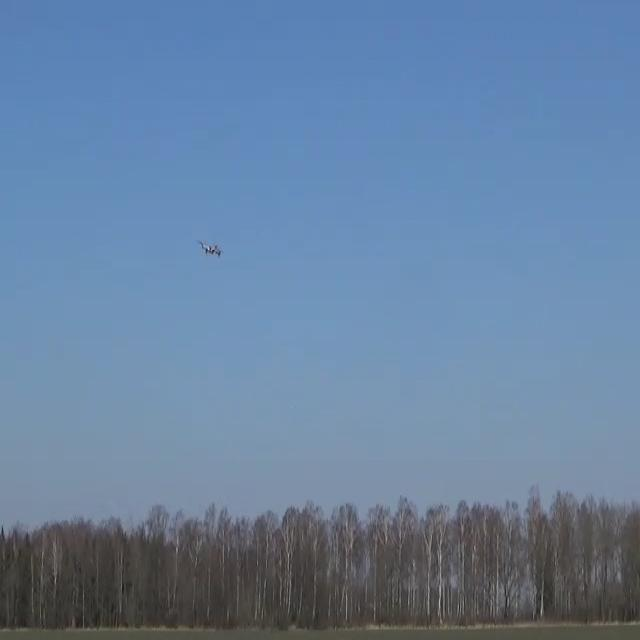drone: (197, 240, 221, 256)
